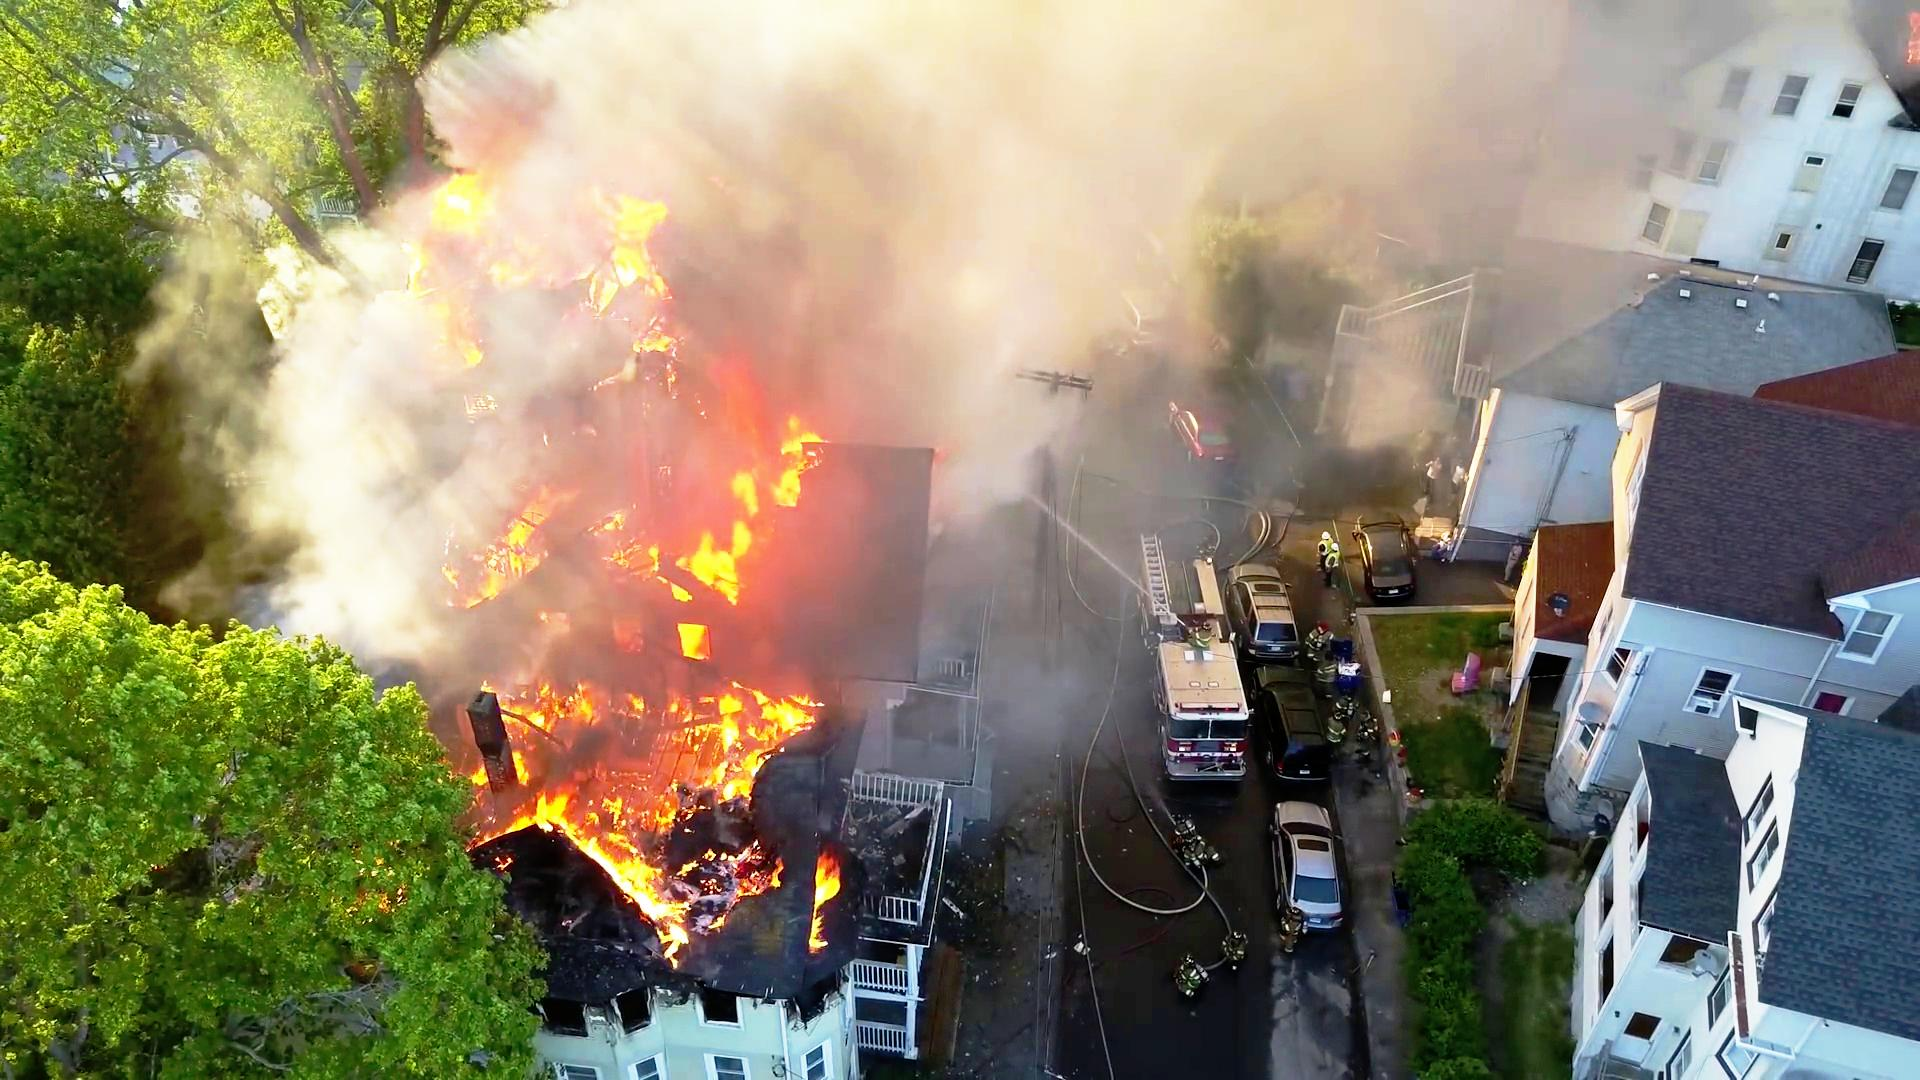fire: (530, 793, 671, 916), (669, 508, 756, 688), (585, 175, 698, 301), (682, 703, 818, 793), (435, 189, 541, 293)
smoke: (694, 8, 1036, 364), (222, 290, 406, 653)
